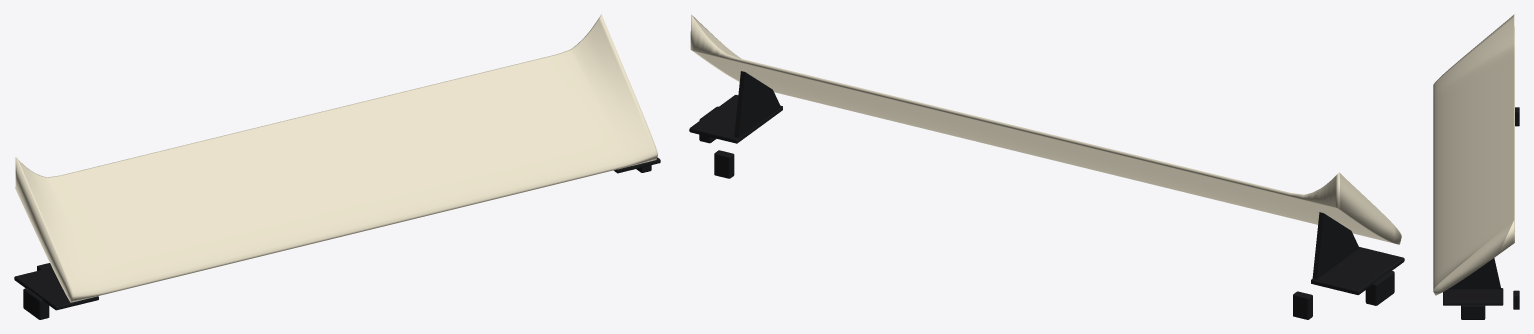
Rendered from spoiler_damd_wing.glb.
The picture shows the model from 3 angles, left to right: view 1: azimuth 30°, elevation 25°; view 2: azimuth 150°, elevation 25°; view 3: azimuth 270°, elevation 25°; orthographic projection. The views are drawn at different scales.
Visible parts, largest first — view 1: blade.002, bracket-1.005, clamp-1.001; view 2: blade.002, bracket-1.005, stay1, stay-1, bracket1.005, clamp-1.001, tgClamp1, tgClamp-1; view 3: blade.002, bracket1.005, stay1, clamp1.001, tgClamp1, tgClamp-1.
Boxes of the visible parts, left/top/right/bottom form: blade.002: left=15, top=14, right=657, bottom=302; bracket-1.005: left=14, top=267, right=98, bottom=310; clamp-1.001: left=23, top=288, right=49, bottom=319; blade.002: left=690, top=14, right=1401, bottom=244; bracket-1.005: left=1311, top=247, right=1404, bottom=294; stay1: left=734, top=71, right=780, bottom=138; stay-1: left=1312, top=212, right=1359, bottom=279; bracket1.005: left=689, top=95, right=782, bottom=143; clamp-1.001: left=1365, top=270, right=1394, bottom=305; tgClamp1: left=714, top=150, right=734, bottom=178; tgClamp-1: left=1293, top=291, right=1312, bottom=319; blade.002: left=1433, top=14, right=1514, bottom=295; bracket1.005: left=1443, top=288, right=1503, bottom=305; stay1: left=1448, top=258, right=1500, bottom=289; clamp1.001: left=1461, top=304, right=1485, bottom=319; tgClamp1: left=1513, top=290, right=1519, bottom=309; tgClamp-1: left=1515, top=107, right=1519, bottom=126.
Size of the model in its own units: 1.27 by 0.2715 by 0.2151.
